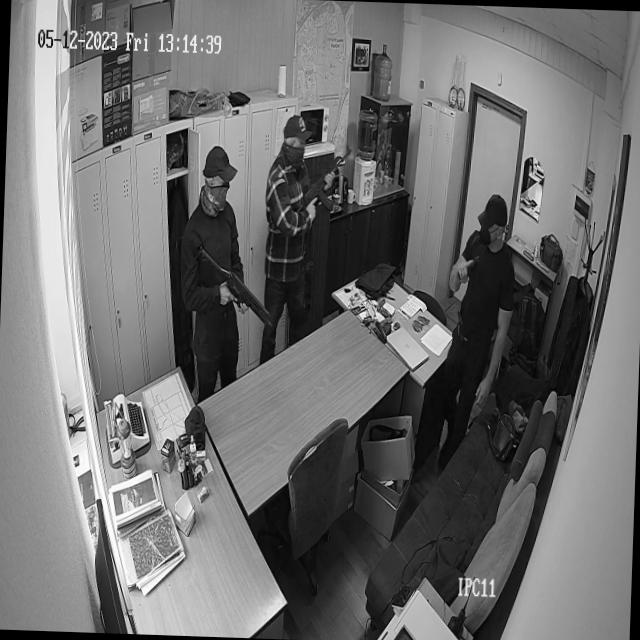gun: (194, 242, 281, 343), (289, 143, 358, 220), (459, 254, 483, 286)
person with a gun: (176, 138, 262, 368), (262, 112, 366, 278), (444, 188, 519, 354)
